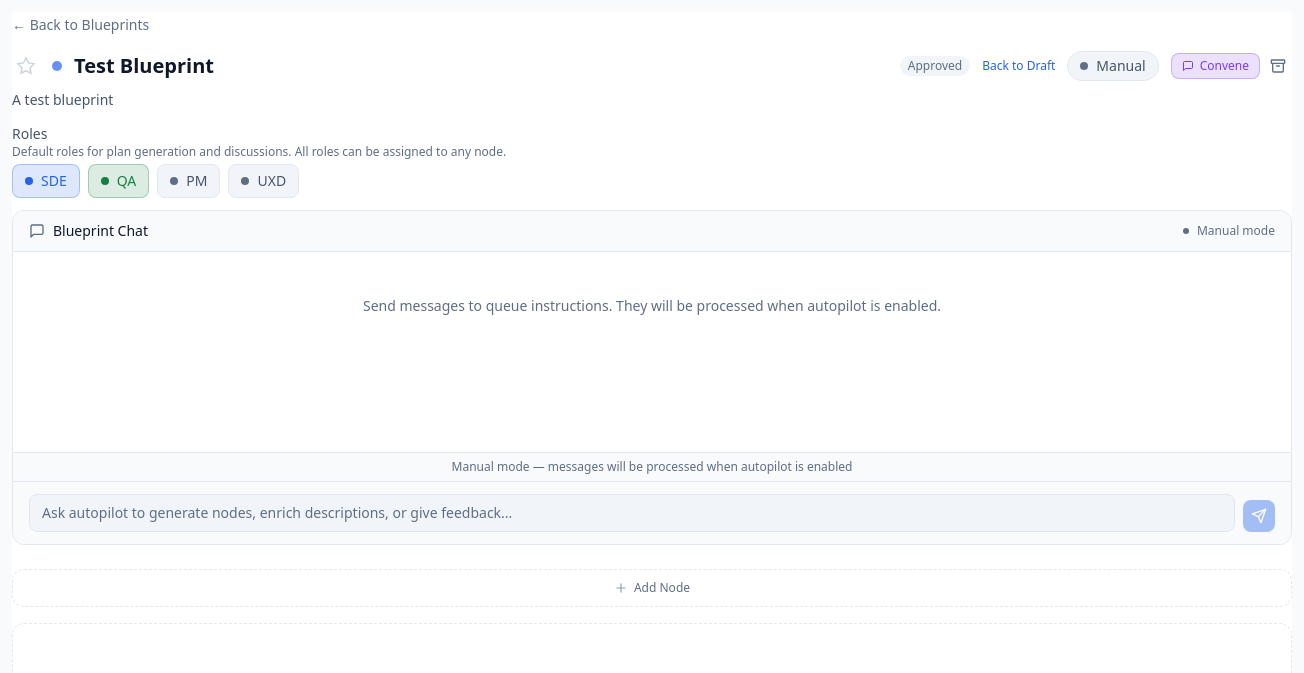
Test: BlueprintDetailPage › Convene button › opens convene config form when clicked
The image size is (1304, 673).
Click the button "Convene".
click(1215, 66)  # box [1171,53,1260,79]
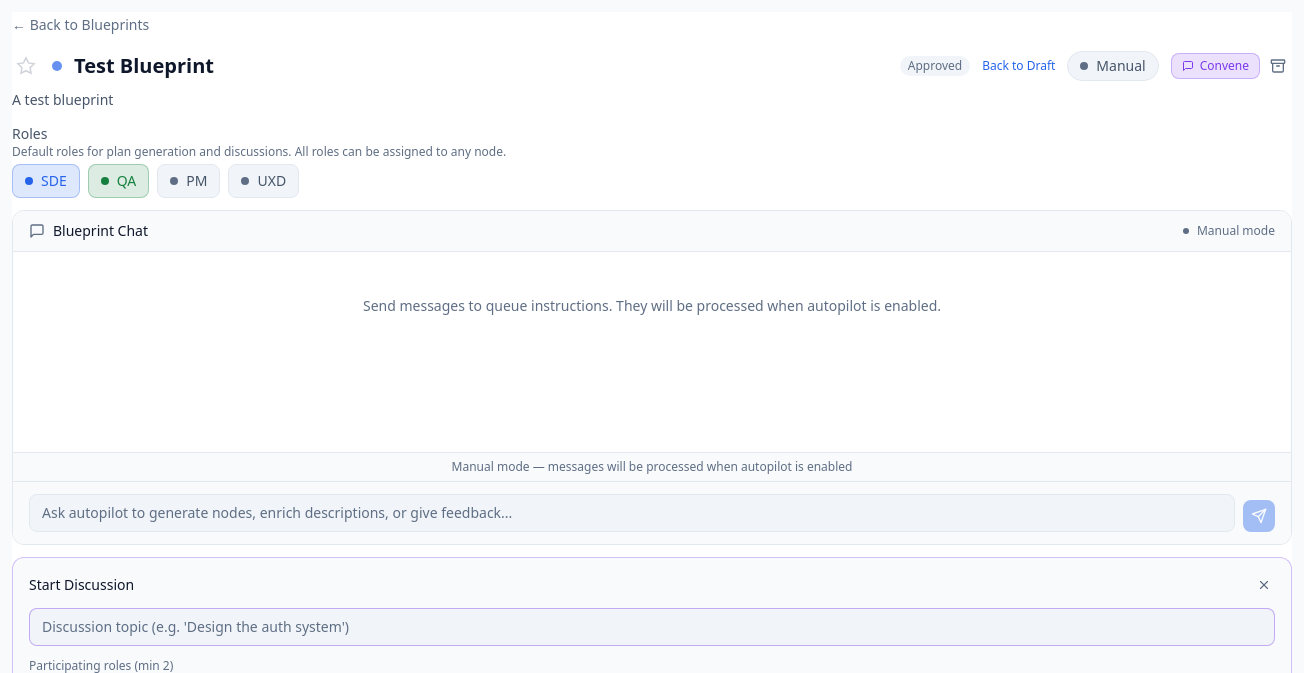
Expected: the heading "Start Discussion" is shown, [29,575,134,595]
